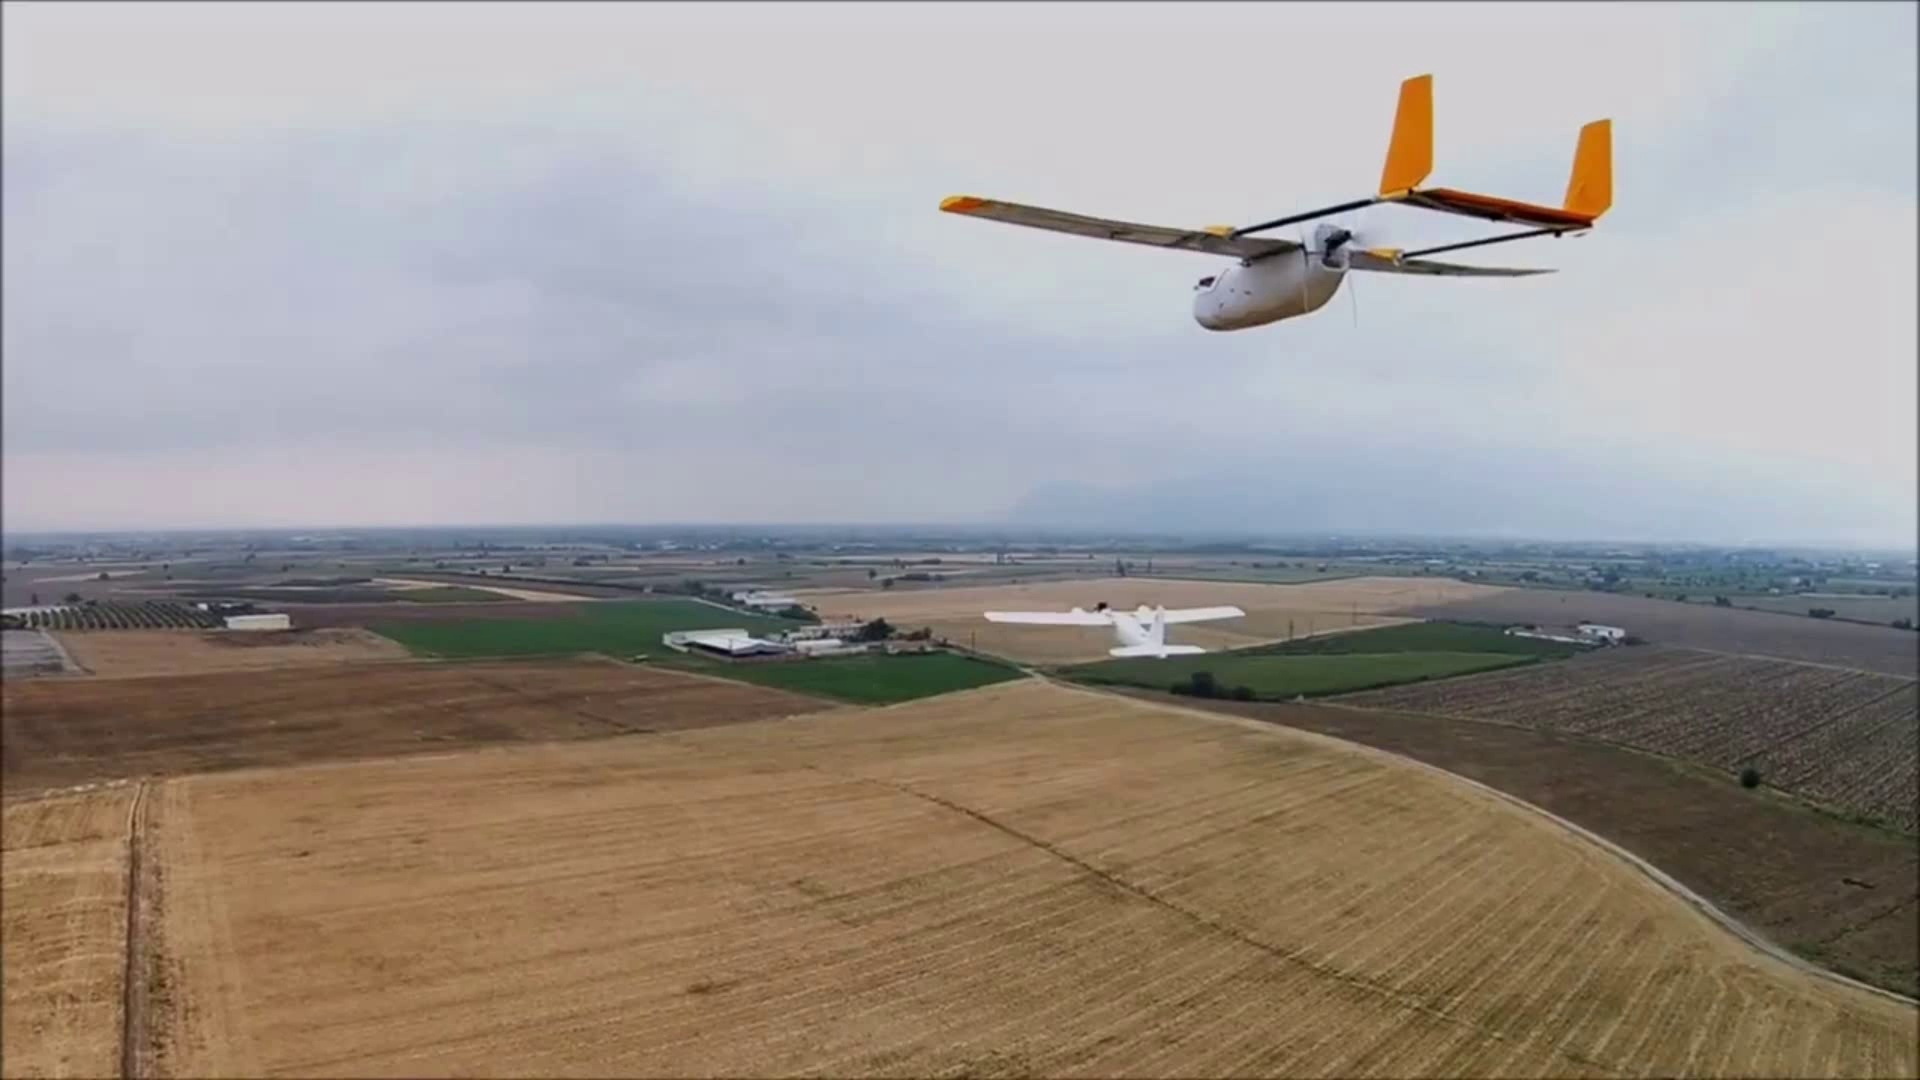airplane: (940, 75, 1614, 331)
